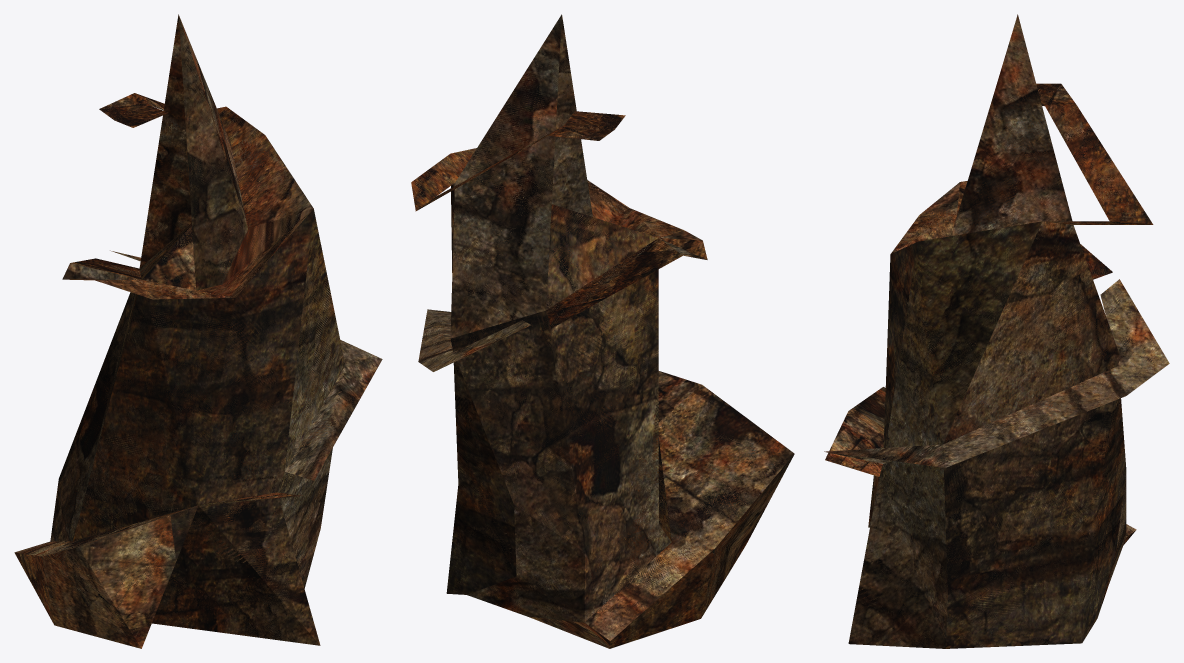
Rendered from MoutainClimb.fbx.
The picture shows the model from 3 angles, left to right: view 1: azimuth 30°, elevation 25°; view 2: azimuth 150°, elevation 25°; view 3: azimuth 270°, elevation 25°; orthographic projection. The views are drawn at different scales.
Visible parts, largest first — view 1: Sphere; view 2: Sphere; view 3: Sphere.
Boxes of the visible parts, x1,y1,x2,y2 form: Sphere: [14, 14, 382, 648]; Sphere: [411, 14, 794, 648]; Sphere: [824, 14, 1169, 648].
Bounding box in the file's own units: 3.33 × 5.56 × 2.91.
